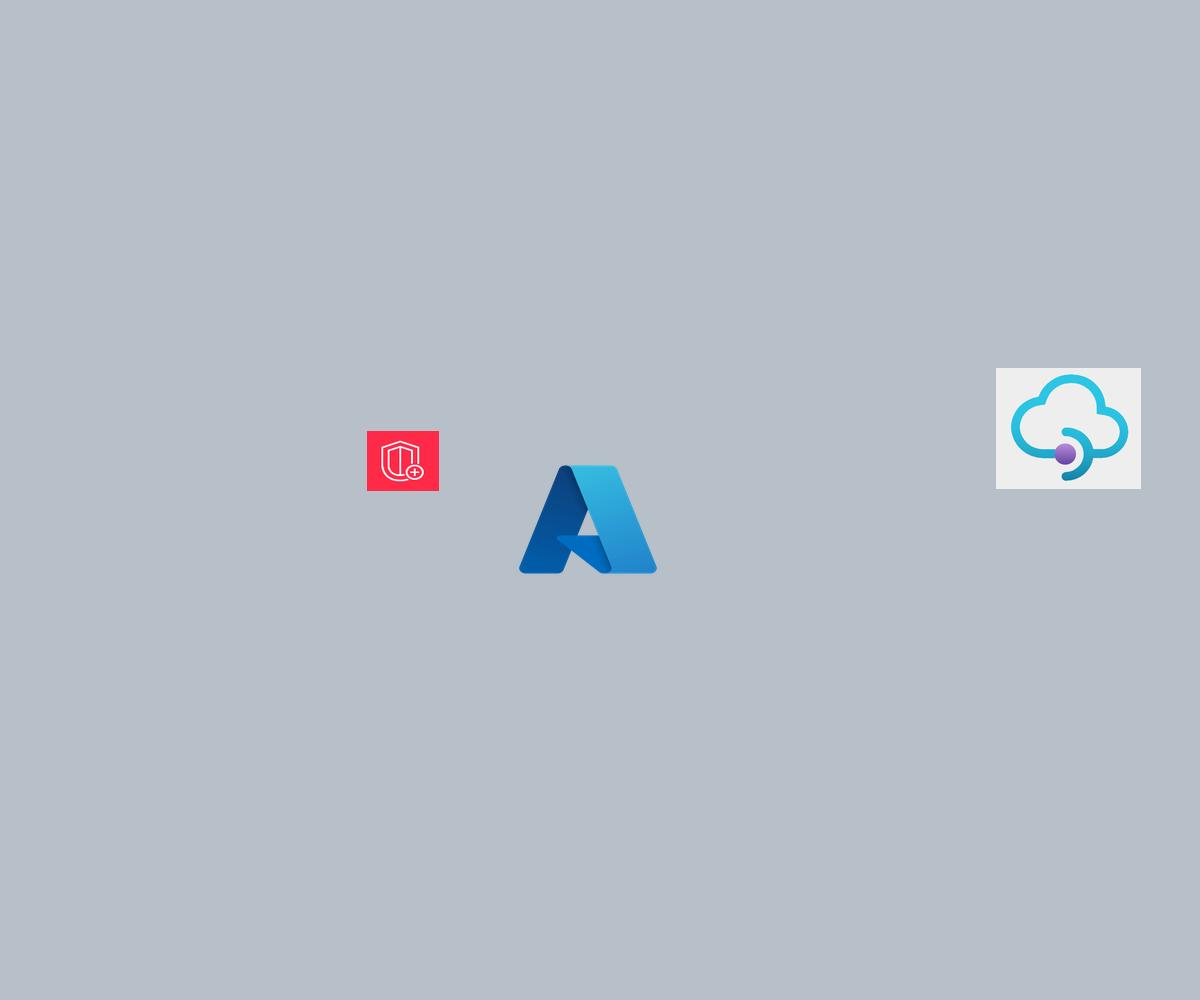AWS-Shield: (367, 431, 439, 491)
Azure_api_gateway: (996, 368, 1141, 489)
Azure_services: (513, 457, 663, 582)
